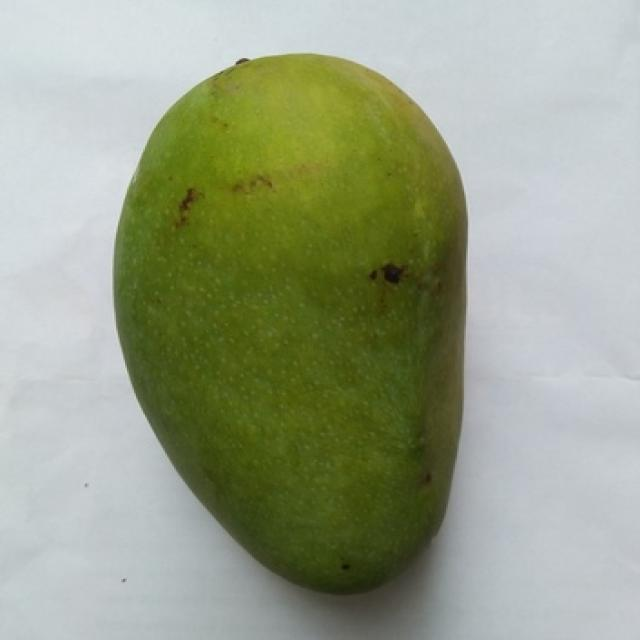Mango: (114, 54, 466, 592)
